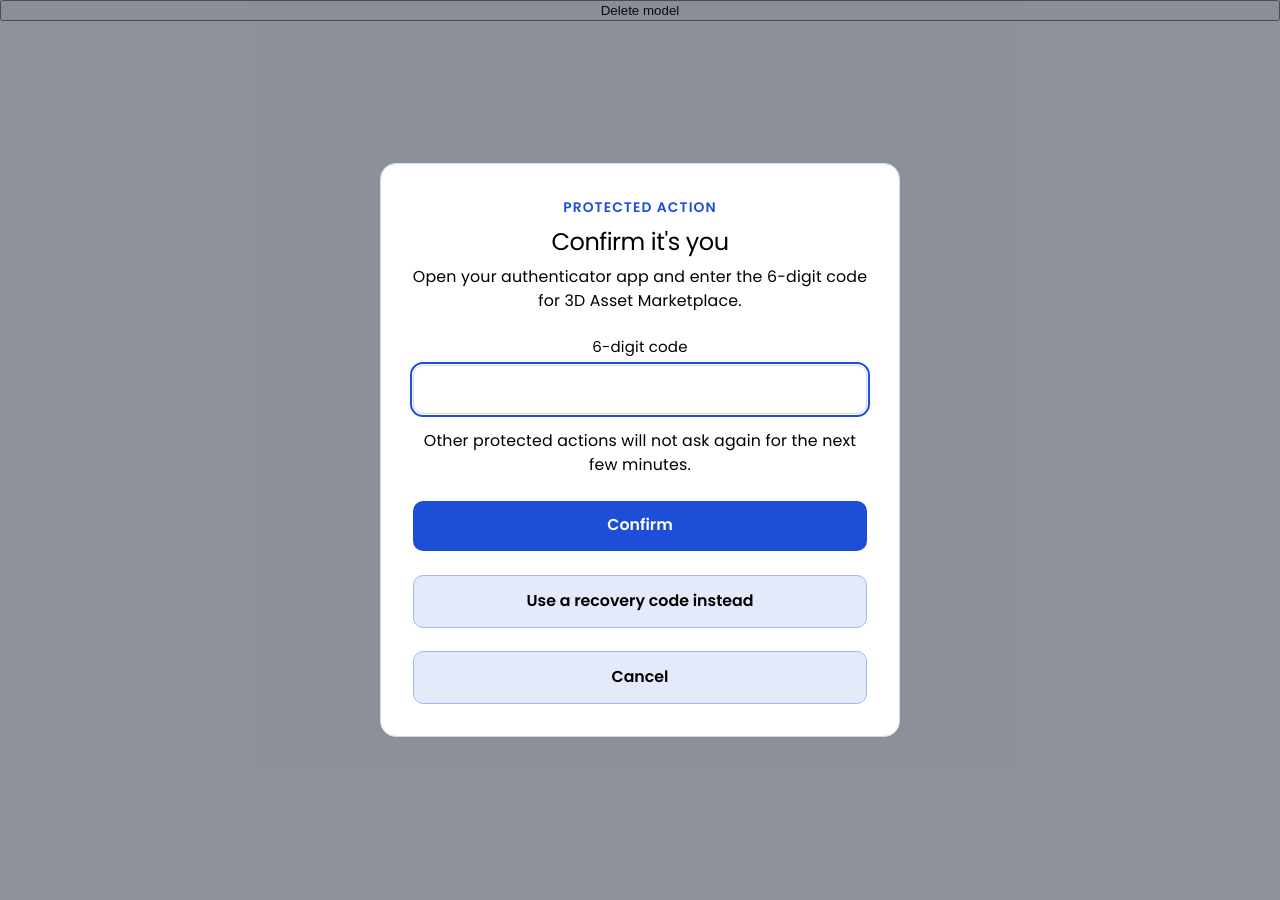
AdminStepUpDialog › sends the authenticator code and lets the action continue
Step 1. Type "123456" into the field labelled "6-digit code" → {"x": 640, "y": 389}, box [413, 365, 867, 414]
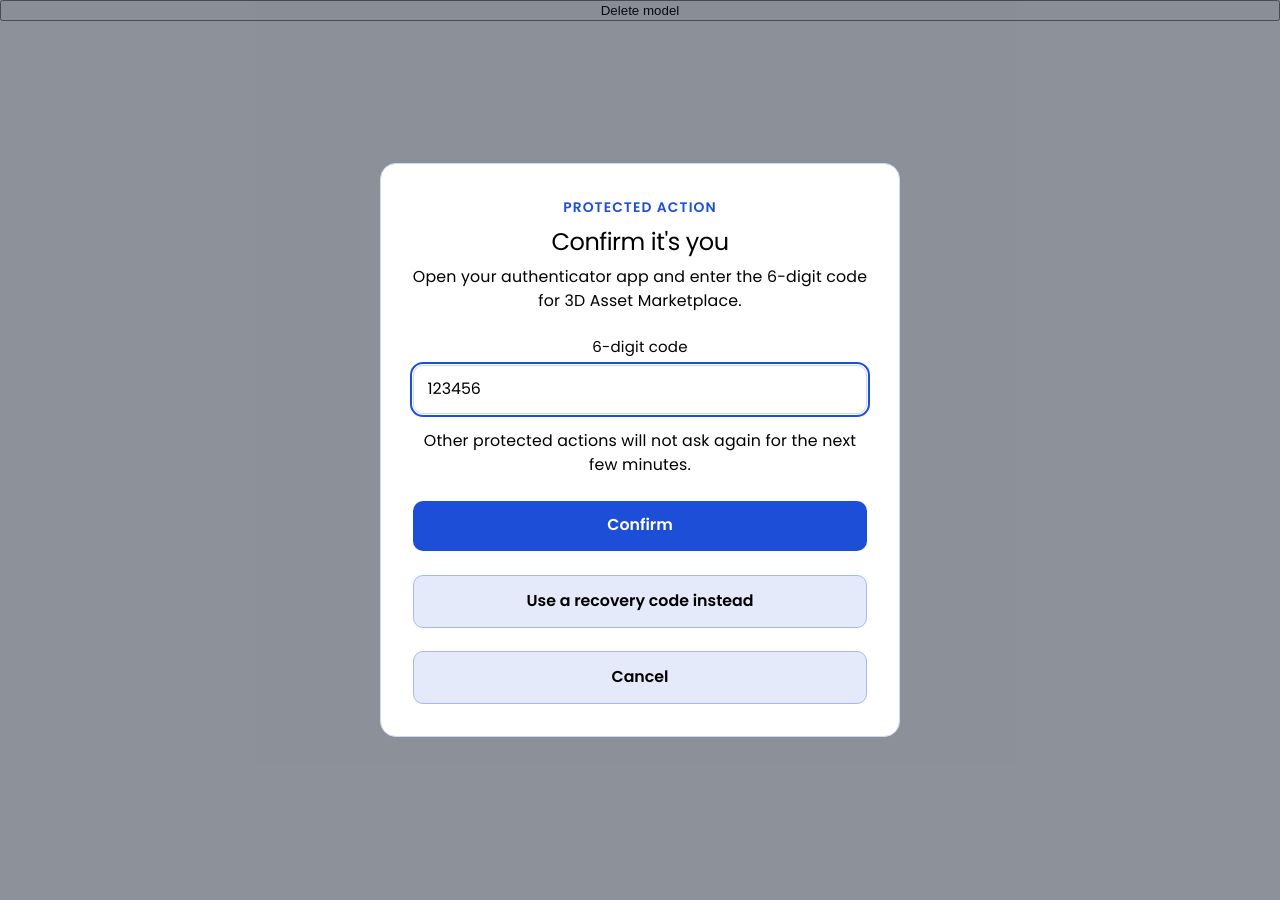
Step 2. Click the button "Confirm" → {"x": 640, "y": 526}, box [413, 501, 867, 551]
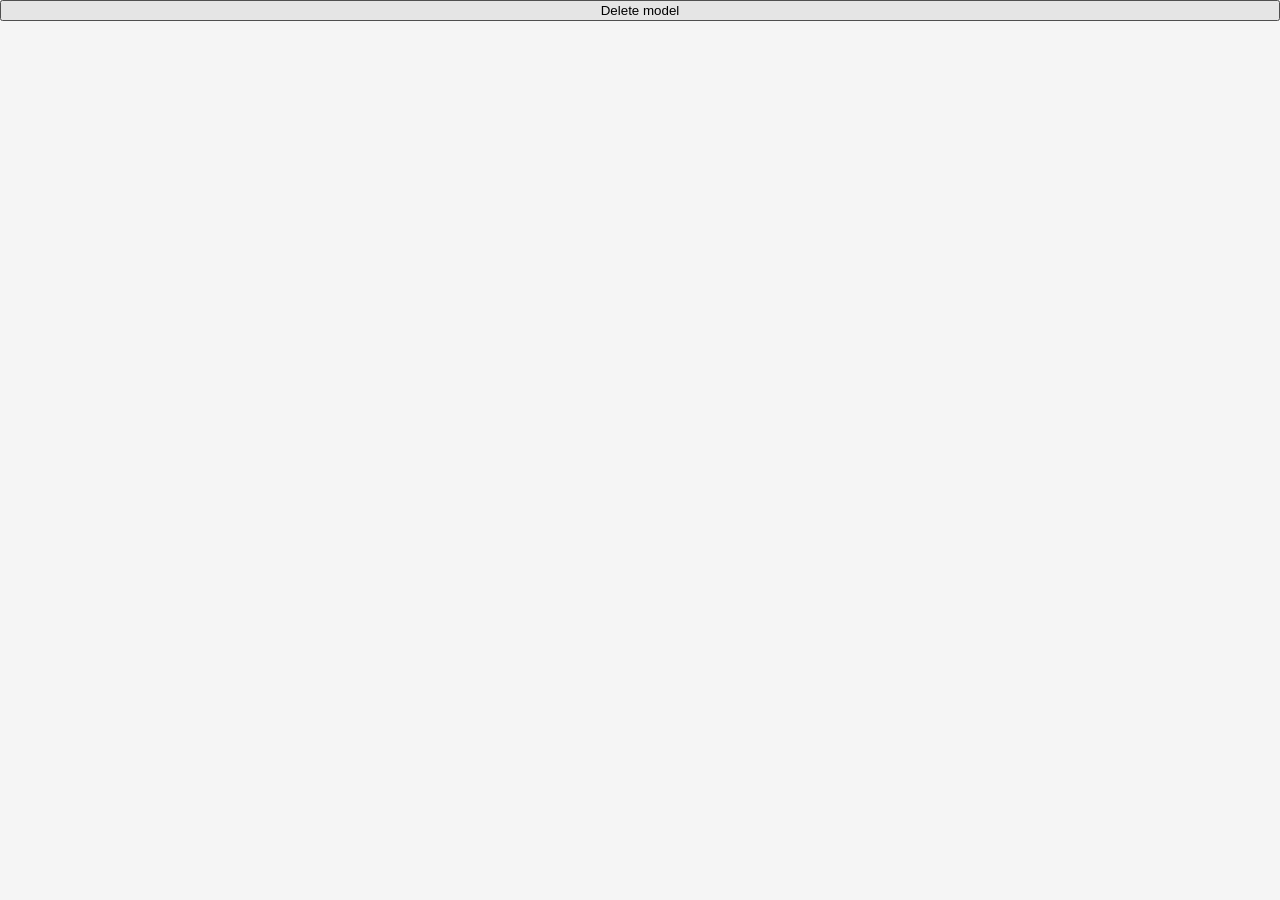
Now the heading "Confirm it's you" is gone
